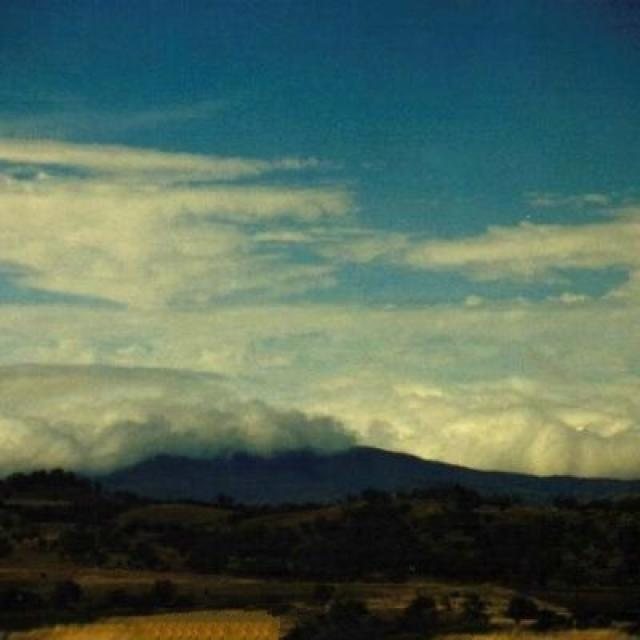Sc: (1, 112, 640, 440)
